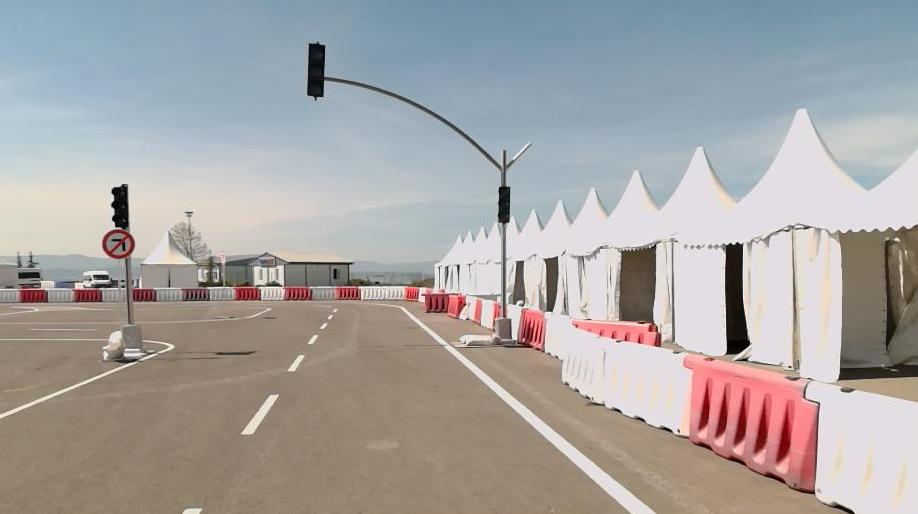nesne: (0, 298, 671, 514), (180, 300, 661, 512), (442, 292, 898, 512), (0, 301, 343, 513), (366, 301, 658, 512), (682, 352, 819, 495), (803, 378, 917, 513), (0, 337, 176, 419), (561, 327, 692, 435), (0, 287, 453, 313), (568, 318, 660, 347), (240, 393, 279, 434), (543, 311, 570, 360), (516, 308, 547, 350), (101, 226, 135, 261), (503, 303, 524, 340), (360, 285, 404, 301), (101, 330, 124, 358), (424, 293, 457, 312), (81, 270, 113, 287), (480, 299, 496, 332), (446, 294, 467, 319), (459, 294, 477, 322), (18, 266, 41, 286), (73, 288, 102, 302), (19, 289, 47, 303), (101, 288, 129, 302), (311, 285, 337, 300), (46, 288, 73, 302), (130, 288, 157, 302), (285, 286, 312, 300), (183, 286, 209, 300), (209, 286, 235, 300), (259, 286, 285, 300), (157, 288, 184, 301), (286, 354, 306, 371), (235, 286, 259, 300), (336, 286, 360, 300), (0, 288, 20, 303), (404, 285, 419, 301), (474, 297, 482, 325), (306, 333, 320, 346), (418, 288, 428, 302), (427, 288, 455, 292), (319, 322, 328, 330), (326, 313, 334, 320), (331, 306, 337, 312)
